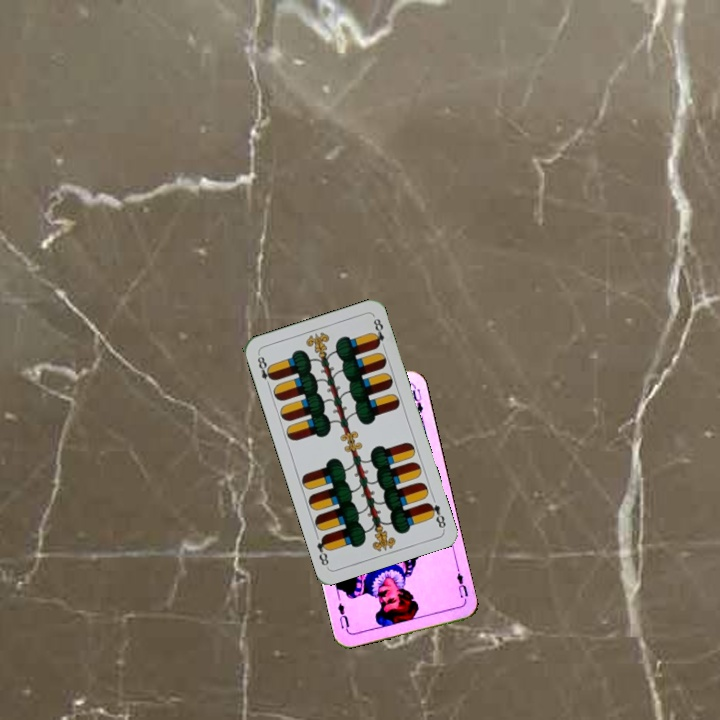E8: (253, 350, 277, 390), (423, 498, 448, 531)
EU: (452, 565, 471, 605)
